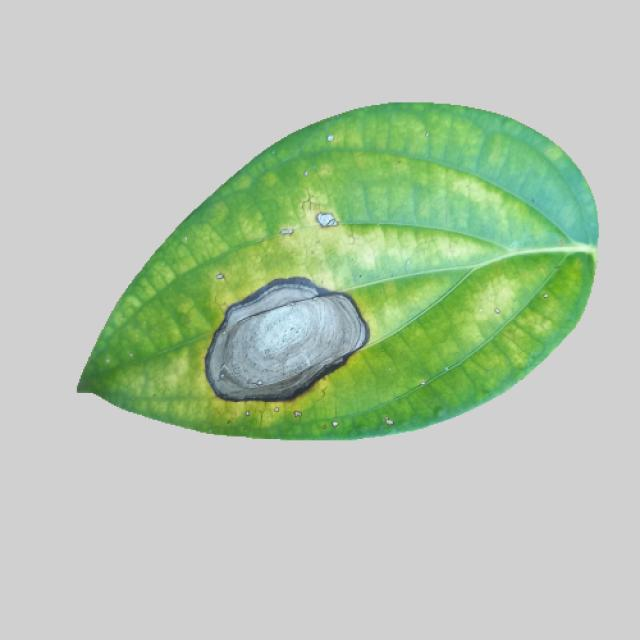leaf-blight: (73, 108, 605, 444)
